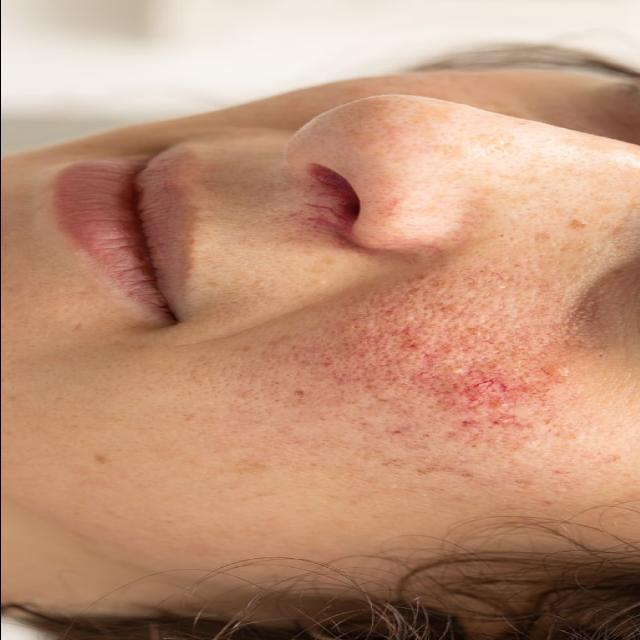Rosacea: (334, 334, 576, 469)
